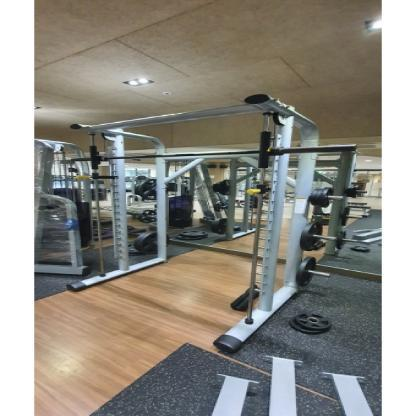smith machine: (67, 94, 323, 353)
